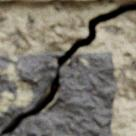brick: (20, 0, 51, 2)
broken_brick: (2, 52, 115, 135), (0, 52, 64, 132)
crack: (0, 1, 135, 135)
